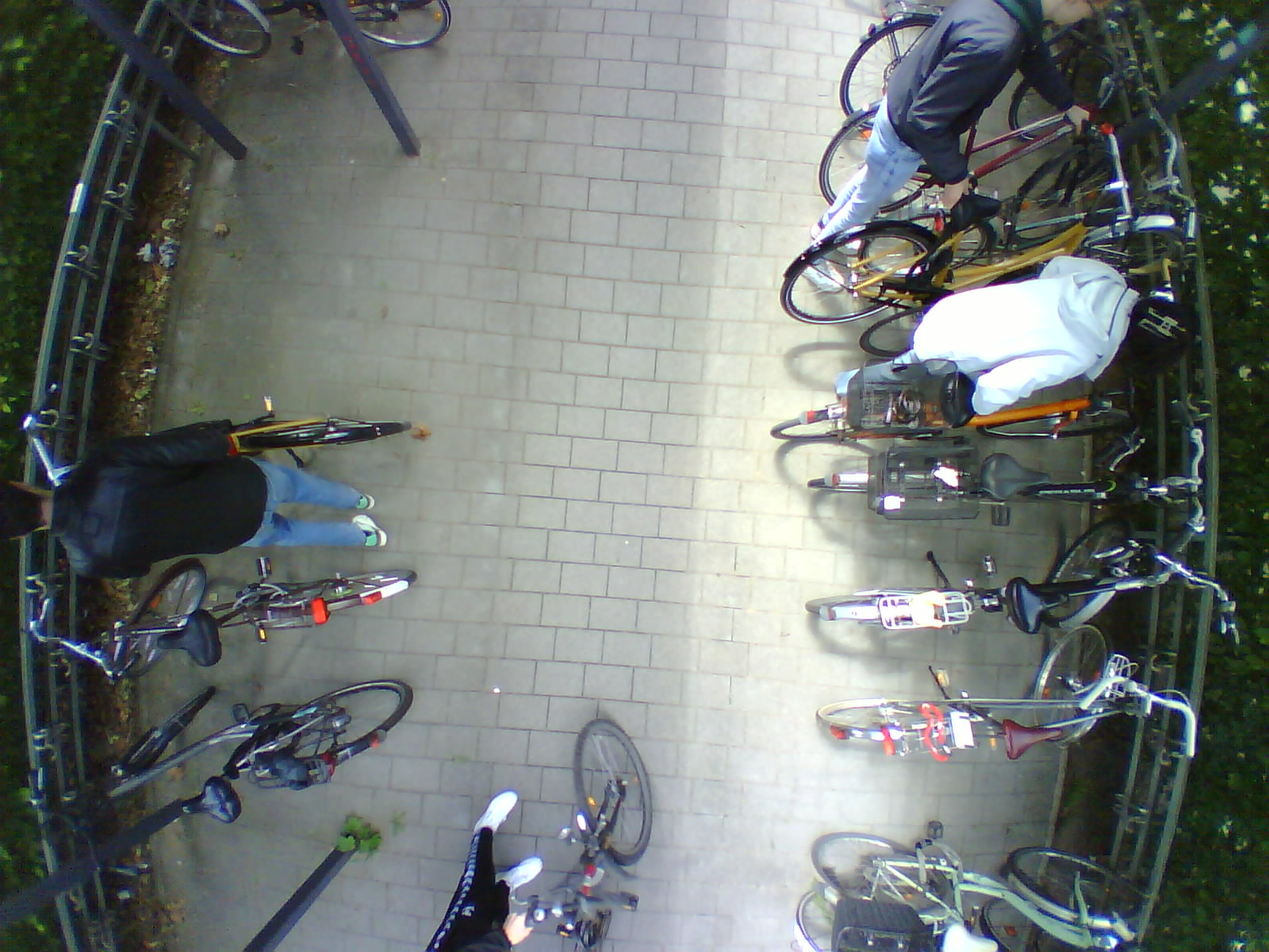bicylce: (806, 819, 1150, 951), (92, 676, 414, 813), (811, 114, 1131, 244), (67, 557, 414, 671), (775, 221, 1165, 318), (802, 435, 1206, 527), (797, 568, 1184, 650), (60, 403, 405, 490), (870, 187, 1180, 278), (811, 697, 1100, 785), (772, 392, 1121, 451)
saddle: (982, 445, 1052, 504), (154, 610, 223, 668), (1004, 580, 1067, 635), (997, 720, 1063, 763), (179, 780, 238, 828), (950, 193, 1000, 234), (940, 920, 998, 952), (945, 373, 980, 423)
